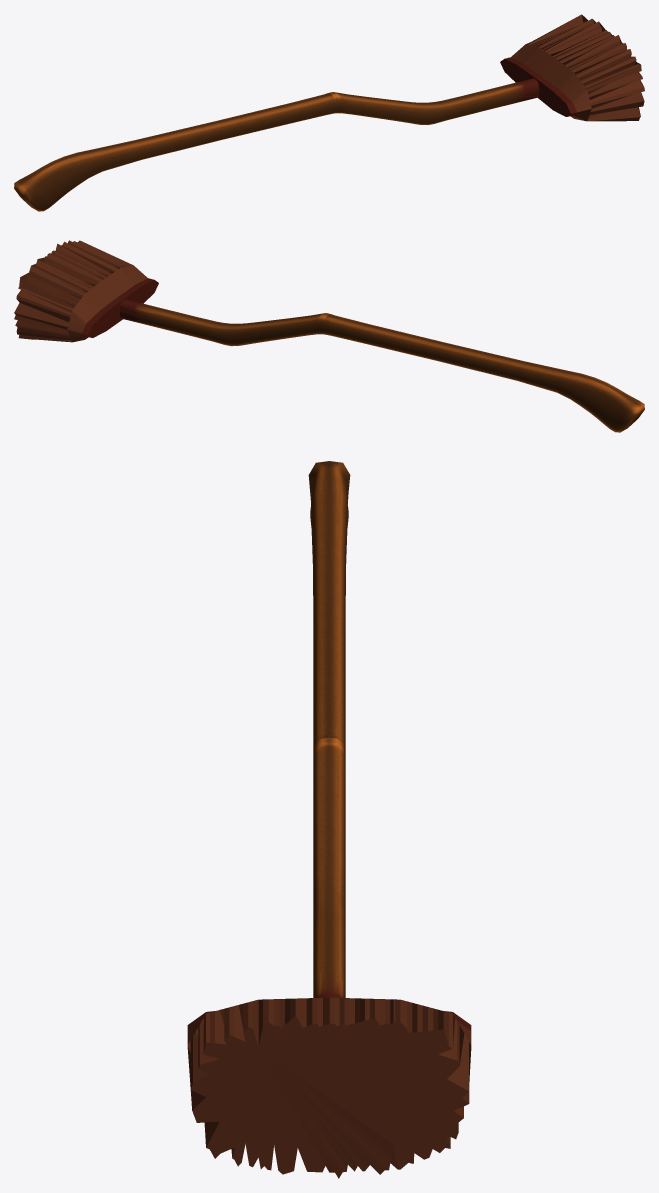
Rendered from broom.fbx.
The picture shows the model from 3 angles, top to bottom: view 1: azimuth 30°, elevation 25°; view 2: azimuth 150°, elevation 25°; view 3: azimuth 270°, elevation 25°; orthographic projection. The views are drawn at different scales.
Parts seen in each view (by area): view 1: Handle; view 2: Handle; view 3: Handle.
Part boxes in pixels (bbox=[...]): Handle: bbox=[14, 14, 644, 211]; Handle: bbox=[14, 240, 644, 432]; Handle: bbox=[187, 461, 471, 1178].
Size of the model in its own units: 132 by 18.15 by 27.24.
2 materials, 1 textured.
